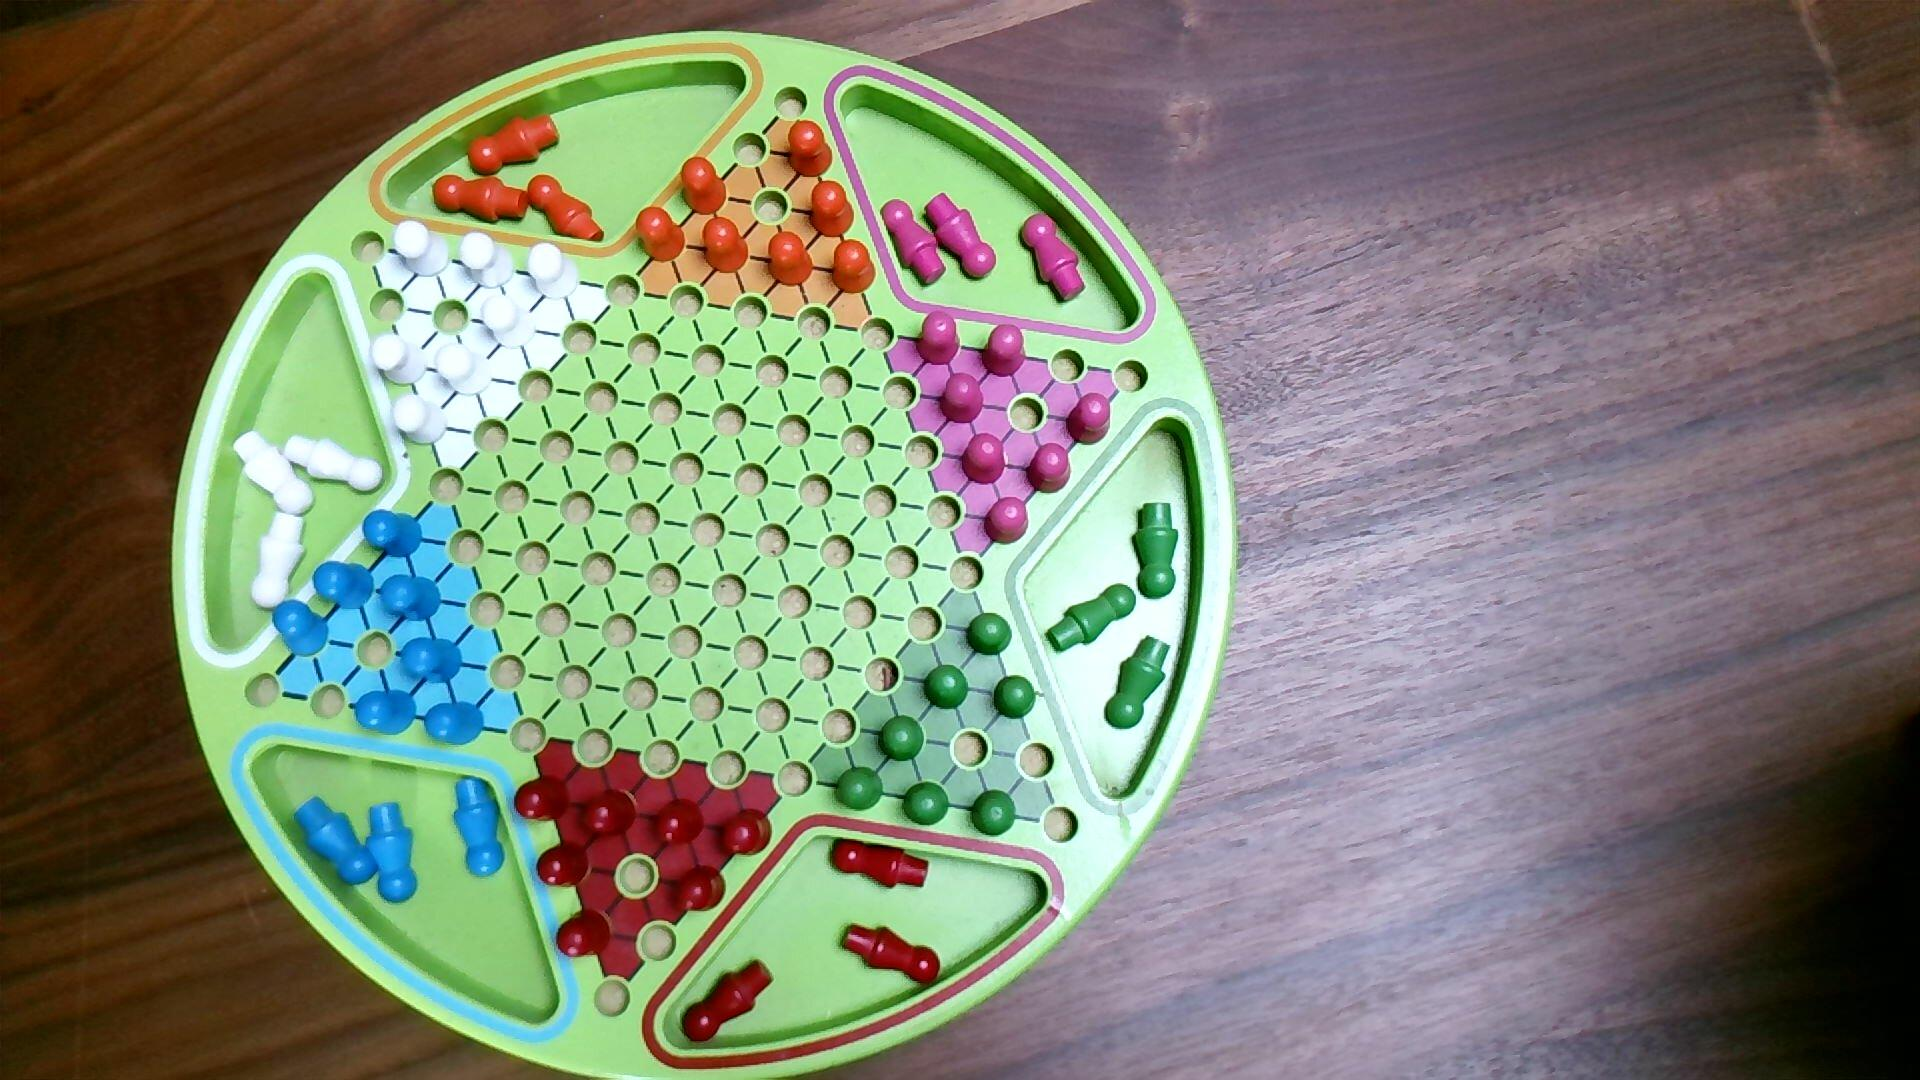B: (272, 599, 332, 659), (398, 636, 465, 687), (311, 560, 376, 613), (378, 574, 444, 625), (361, 508, 425, 560), (353, 688, 419, 738), (423, 700, 488, 750)
G: (902, 779, 952, 829), (923, 662, 972, 713), (833, 765, 885, 812), (878, 713, 926, 765), (964, 611, 1015, 658), (971, 789, 1019, 837), (993, 673, 1039, 723)
O: (634, 204, 688, 266), (679, 153, 731, 218), (700, 214, 752, 276), (808, 178, 857, 240), (786, 117, 835, 179), (829, 237, 878, 297), (766, 228, 814, 289)
R: (554, 905, 616, 961), (579, 785, 640, 839), (716, 804, 775, 858), (513, 771, 570, 824), (535, 839, 593, 890), (650, 796, 705, 848), (671, 864, 728, 913)
R2: (978, 320, 1029, 380), (914, 309, 963, 369), (957, 430, 1007, 488), (1064, 390, 1113, 448), (1025, 440, 1073, 497), (938, 371, 986, 426), (982, 495, 1033, 547)
W: (392, 216, 452, 280), (458, 229, 518, 289), (433, 340, 495, 398), (526, 240, 583, 302), (480, 291, 538, 351), (392, 390, 450, 448), (369, 332, 429, 386)
